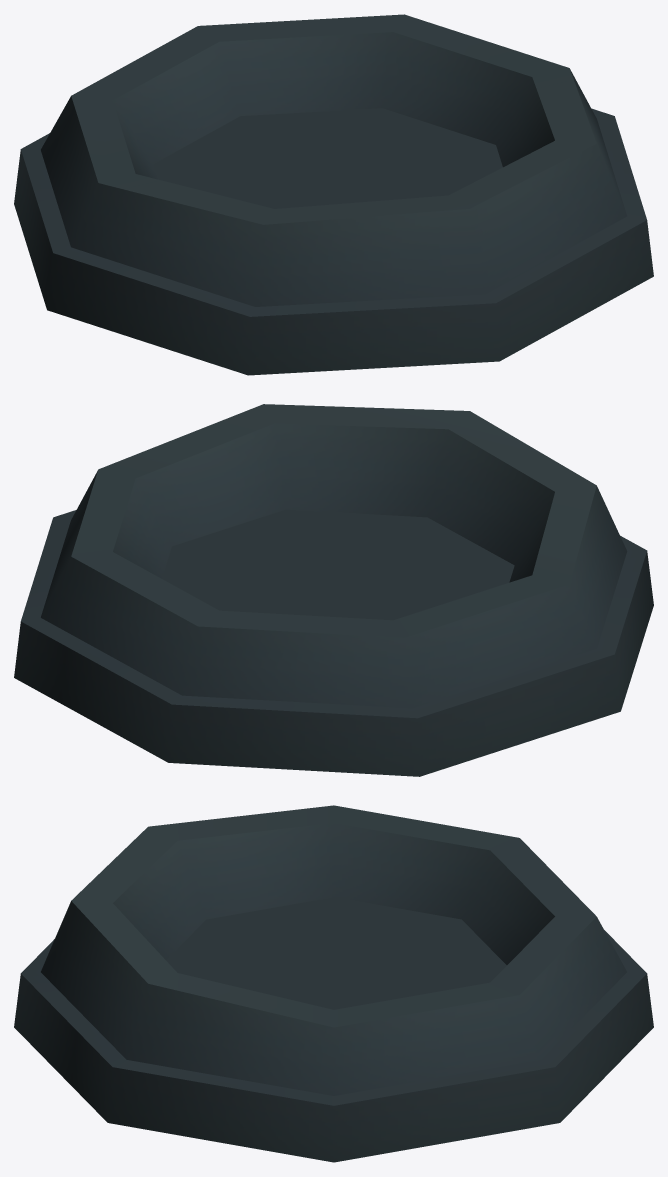
Rendered from Trash_pile_002.glb.
The picture shows the model from 3 angles, top to bottom: view 1: azimuth 30°, elevation 25°; view 2: azimuth 150°, elevation 25°; view 3: azimuth 270°, elevation 25°; orthographic projection. The views are drawn at different scales.
Visible parts, largest first — view 1: Trash_pile_002; view 2: Trash_pile_002; view 3: Trash_pile_002.
Part boxes in pixels (x1,y1,x2,y2): Trash_pile_002: (14,14,653,375); Trash_pile_002: (14,404,653,776); Trash_pile_002: (14,805,653,1162).
Size of the model in its own units: 0.1216 by 0.0267 by 0.1216.
Materials: 1 (1 with a texture image).
